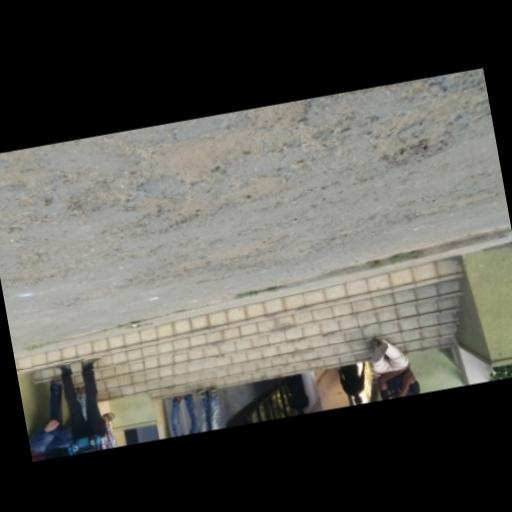stairs: (15, 257, 462, 399)
